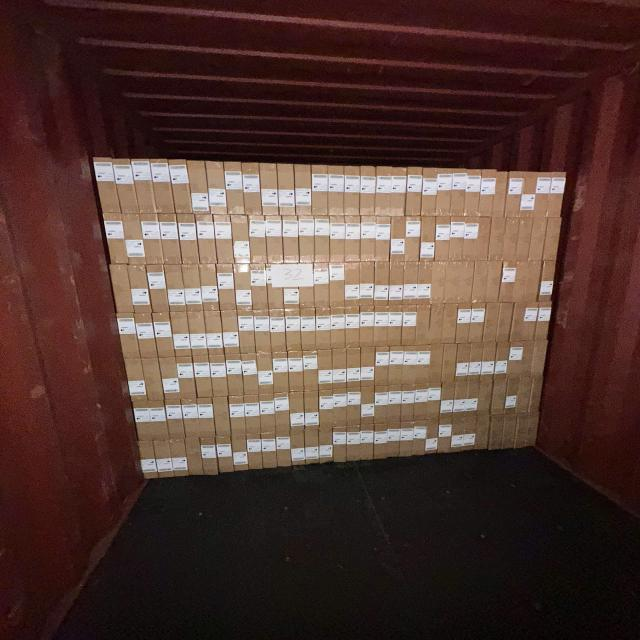Carton: (91, 156, 122, 213), (112, 159, 139, 214), (104, 212, 131, 264), (150, 160, 175, 213), (133, 160, 157, 213), (169, 161, 193, 213), (109, 264, 134, 313), (187, 161, 210, 214), (140, 216, 164, 266), (123, 213, 146, 265), (160, 215, 183, 266), (177, 215, 200, 266), (130, 265, 154, 313), (142, 401, 170, 442), (116, 315, 140, 361), (125, 359, 150, 403), (224, 161, 244, 215), (207, 164, 227, 218), (506, 340, 534, 378), (242, 162, 262, 215), (166, 266, 188, 314), (526, 217, 550, 261), (214, 216, 235, 266), (148, 265, 170, 312), (140, 359, 164, 402), (136, 314, 159, 358), (154, 314, 177, 358), (518, 172, 540, 218), (545, 172, 567, 218), (542, 217, 565, 261), (198, 216, 218, 266), (504, 170, 525, 217), (183, 265, 203, 313), (262, 163, 280, 216), (233, 216, 252, 266), (249, 216, 268, 266), (160, 359, 182, 402), (500, 218, 522, 261), (294, 166, 312, 217), (327, 166, 345, 217), (202, 265, 221, 313), (375, 168, 394, 216), (514, 218, 535, 261), (522, 260, 543, 303), (482, 260, 504, 301), (278, 165, 295, 218), (359, 166, 377, 216), (266, 214, 284, 264), (217, 265, 236, 312), (478, 170, 497, 217), (166, 399, 187, 441), (464, 168, 482, 217), (188, 313, 208, 357), (172, 314, 192, 358), (473, 217, 493, 261), (132, 401, 154, 441), (312, 165, 329, 216), (344, 166, 361, 217), (389, 168, 407, 216), (314, 216, 332, 264), (232, 264, 250, 312), (253, 264, 271, 312), (268, 264, 286, 312), (470, 260, 490, 303), (456, 261, 476, 304), (195, 355, 214, 400), (534, 171, 552, 218), (498, 261, 518, 303), (487, 217, 506, 261), (402, 261, 421, 305), (137, 441, 159, 479), (435, 166, 451, 218), (436, 216, 454, 262), (282, 263, 300, 309), (489, 378, 510, 417), (207, 313, 226, 356), (407, 168, 424, 216), (300, 216, 317, 264), (282, 215, 299, 263), (538, 261, 558, 301), (406, 215, 423, 262), (450, 168, 467, 215), (254, 310, 272, 354), (422, 169, 438, 218), (181, 398, 200, 439), (222, 312, 240, 355), (256, 352, 274, 395), (180, 356, 198, 399), (331, 216, 347, 264), (390, 217, 406, 265), (450, 216, 467, 261), (298, 263, 315, 308), (198, 398, 217, 438), (230, 434, 250, 472), (169, 439, 189, 477), (444, 261, 462, 303), (225, 354, 243, 396), (242, 354, 260, 396), (345, 216, 361, 263), (240, 311, 257, 355), (301, 309, 318, 353), (344, 264, 361, 308), (330, 264, 347, 308), (153, 439, 172, 478), (184, 438, 204, 475), (483, 302, 501, 343), (468, 302, 486, 343), (314, 264, 330, 310), (359, 216, 375, 262), (462, 216, 478, 262), (376, 217, 392, 263), (420, 216, 436, 262), (492, 171, 508, 217), (271, 311, 288, 354), (315, 309, 332, 352), (211, 354, 228, 397), (245, 432, 264, 470), (213, 398, 231, 438), (358, 263, 374, 308), (512, 262, 530, 302), (286, 310, 302, 354), (401, 304, 417, 348), (416, 261, 432, 305), (202, 439, 220, 478), (388, 346, 406, 385), (534, 302, 552, 341), (522, 302, 540, 341), (426, 344, 444, 383), (258, 393, 276, 432), (274, 393, 292, 432), (455, 304, 472, 345), (345, 307, 361, 350), (430, 262, 446, 305), (388, 262, 404, 305), (216, 438, 234, 476), (514, 376, 532, 414), (511, 302, 528, 342), (231, 396, 248, 436), (467, 342, 484, 382), (441, 343, 458, 383), (304, 350, 320, 392), (346, 348, 362, 390), (476, 379, 494, 416), (260, 431, 278, 468), (425, 381, 442, 420), (375, 262, 390, 306), (373, 304, 388, 348), (333, 350, 349, 391), (274, 352, 290, 393), (287, 351, 303, 392), (496, 302, 512, 343), (317, 351, 333, 392), (415, 304, 431, 345), (455, 342, 471, 383), (415, 343, 431, 384), (500, 413, 518, 449), (398, 421, 416, 457), (245, 396, 262, 434), (332, 306, 347, 349), (375, 346, 391, 386), (428, 304, 444, 344), (449, 416, 466, 453), (494, 340, 510, 379), (480, 341, 496, 380), (452, 380, 468, 419), (438, 381, 454, 420), (443, 303, 458, 344), (359, 347, 374, 388), (289, 391, 304, 432), (530, 340, 546, 378), (528, 375, 544, 413), (504, 376, 520, 414), (360, 305, 374, 348), (373, 384, 388, 424), (513, 412, 529, 449), (488, 414, 504, 451), (275, 430, 291, 467), (347, 388, 362, 427), (465, 379, 480, 418), (414, 383, 429, 422), (387, 384, 402, 423), (462, 415, 478, 451), (385, 422, 401, 458), (359, 424, 375, 460), (304, 428, 320, 464), (388, 305, 402, 346), (319, 390, 334, 428), (373, 422, 388, 460), (402, 345, 416, 385), (304, 390, 318, 430), (474, 415, 490, 450), (290, 430, 306, 465), (424, 418, 439, 455), (412, 419, 427, 456), (333, 427, 348, 463), (319, 427, 334, 463), (333, 386, 346, 427), (401, 384, 415, 422), (360, 386, 374, 424), (346, 424, 360, 462), (525, 412, 540, 447), (437, 418, 452, 453)
